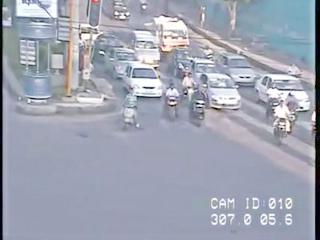Car: (254, 74, 311, 110), (200, 74, 241, 110), (122, 64, 163, 97), (153, 16, 189, 53), (219, 54, 258, 86), (95, 34, 127, 62), (112, 53, 138, 80), (133, 43, 160, 69), (172, 48, 193, 77), (130, 30, 159, 47), (113, 0, 130, 20)
Motor: (121, 88, 141, 131), (274, 99, 293, 135), (190, 85, 206, 121), (165, 82, 180, 118), (266, 83, 280, 116), (285, 92, 299, 121), (181, 72, 194, 101), (202, 45, 213, 59)
